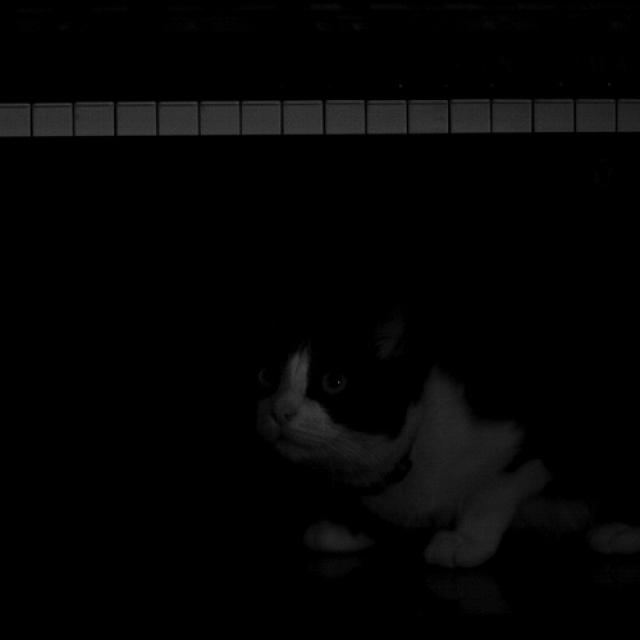Cat: (263, 200, 625, 640)
